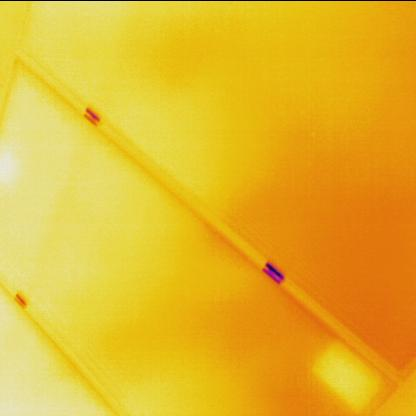hotspot: (307, 328, 385, 414)
